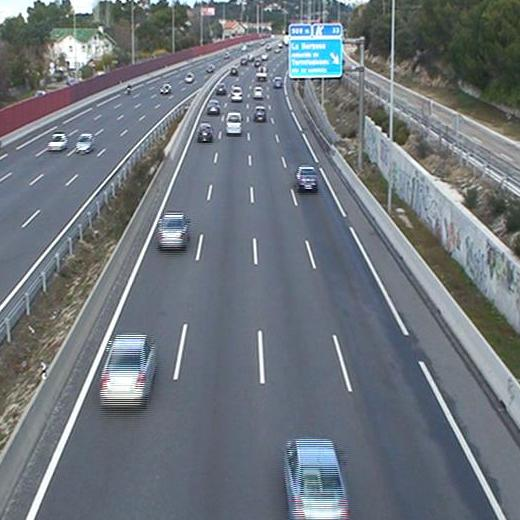car: (286, 442, 341, 520), (100, 337, 152, 403), (159, 214, 187, 248), (297, 166, 318, 193), (197, 123, 212, 139), (208, 99, 221, 115), (253, 106, 265, 123), (231, 87, 242, 102), (252, 87, 264, 99), (214, 82, 225, 95), (273, 77, 284, 88)
small-truck: (255, 65, 267, 82)
van: (226, 112, 243, 132)
